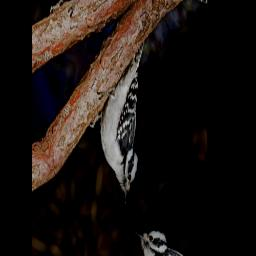Woodpecker: (80, 41, 181, 215)
